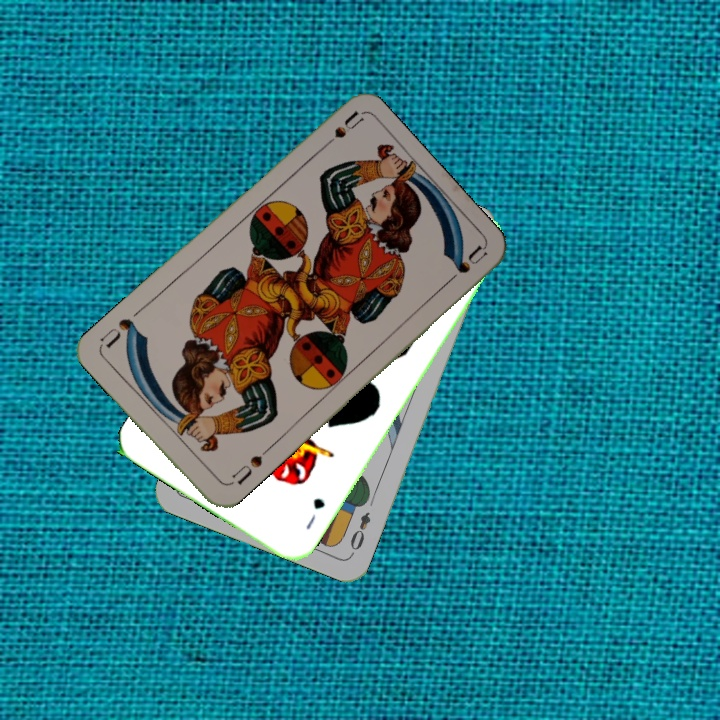EO: (346, 507, 374, 558)
GU: (301, 494, 328, 533)
SU: (313, 108, 364, 155), (223, 451, 265, 489)
